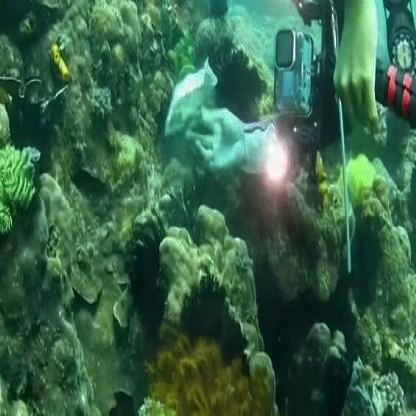Mask: (164, 55, 218, 135)
